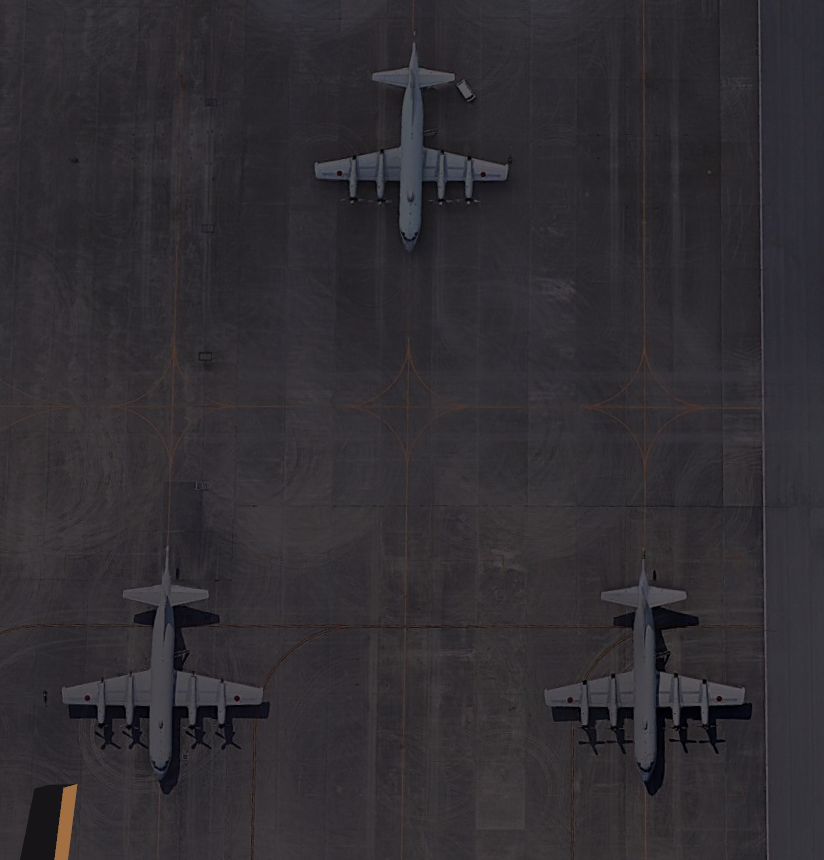A9: (57, 524, 272, 786), (539, 529, 754, 791), (304, 7, 522, 255)
